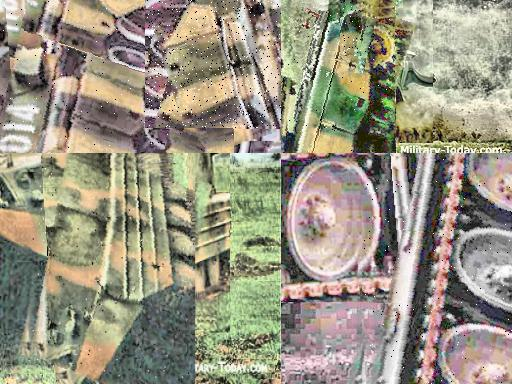tanks: (29, 157, 195, 384), (1, 1, 234, 154), (364, 154, 512, 384), (282, 4, 396, 154), (148, 1, 282, 128), (342, 1, 362, 57), (495, 1, 501, 3)
